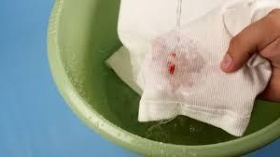blood: (168, 52, 178, 75)
